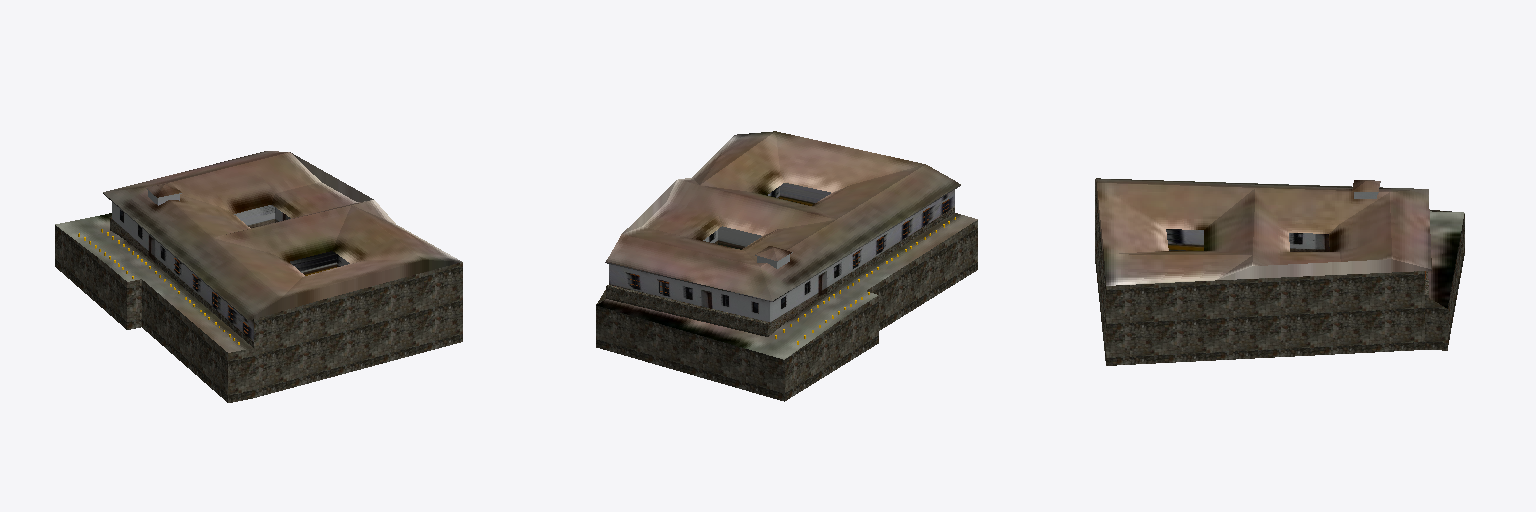
3 renders of one model, left to right at view 1: azimuth 30°, elevation 25°; view 2: azimuth 150°, elevation 25°; view 3: azimuth 270°, elevation 25°, orthographic.
Parts seen in each view (by area): view 1: Mesh175 Model; view 2: Mesh175 Model, Mesh176 Model; view 3: Mesh175 Model.
Part boxes in pixels (x1,y1,x2,y2): Mesh175 Model: (55,151,462,402); Mesh175 Model: (596,131,977,401); Mesh176 Model: (755,246,792,268); Mesh175 Model: (1095,178,1464,365).
Size of the model in its own units: 34.9 by 14.36 by 46.6.
Materials: 10 (7 with a texture image).